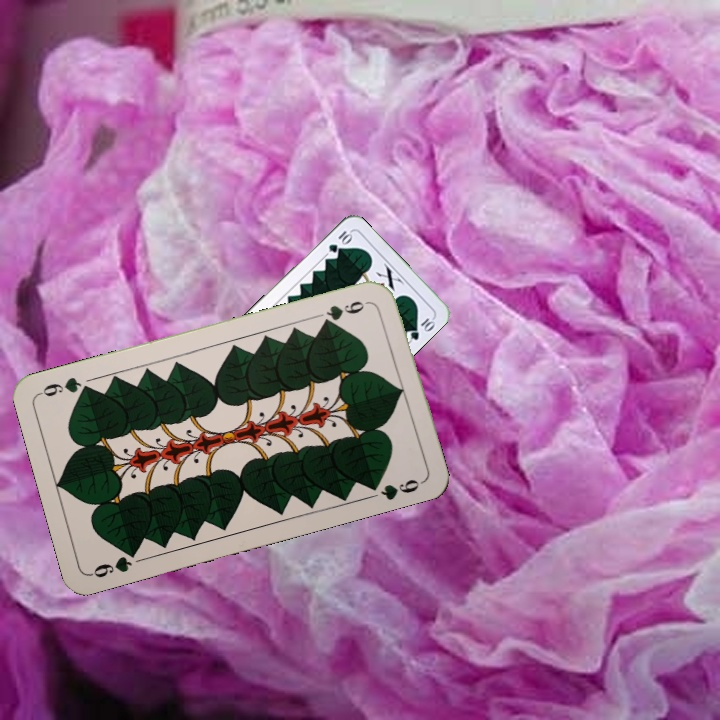G10: (324, 226, 355, 255)
G9: (87, 544, 141, 581), (318, 296, 374, 328)
